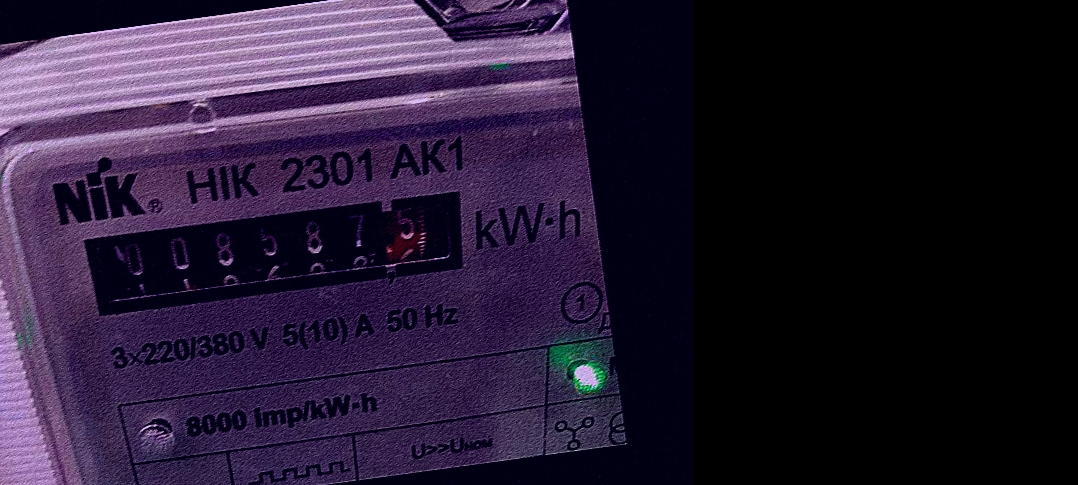0: (164, 230, 193, 273)
1: (118, 236, 147, 280)
5: (391, 200, 420, 243), (254, 219, 282, 260)
7: (342, 208, 371, 252)
8: (208, 226, 238, 270), (299, 214, 325, 258)
screen: (60, 166, 490, 340)
